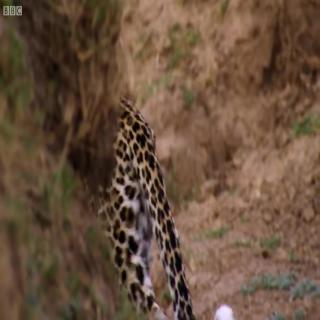Leopard: (102, 73, 192, 311)
